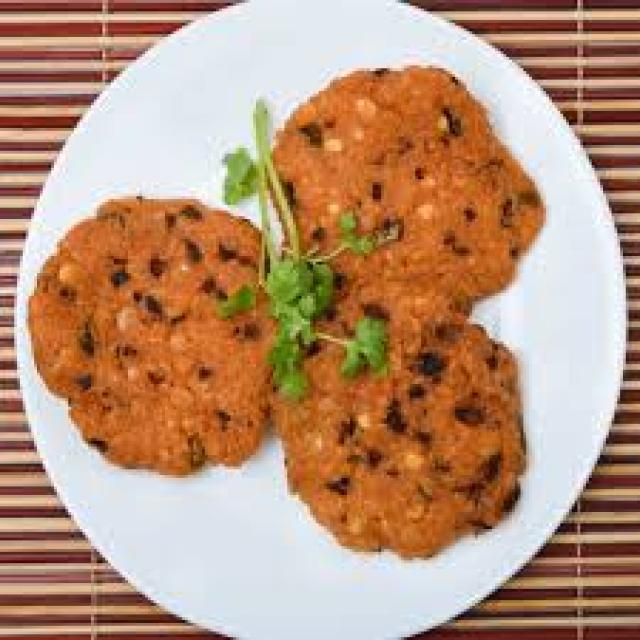parupu vadai: (273, 279, 523, 558), (28, 199, 270, 472), (273, 65, 543, 299)
